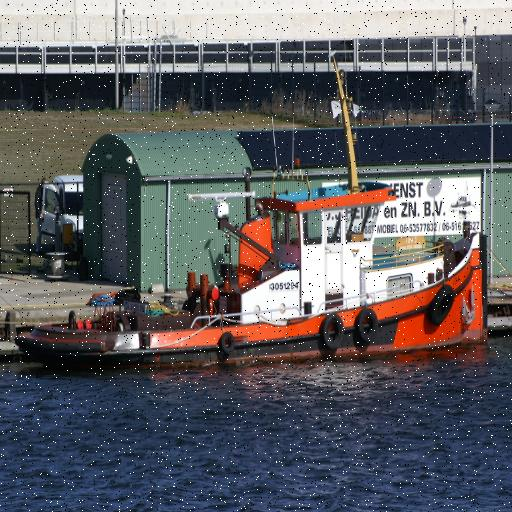tugboat: (6, 173, 495, 379)
